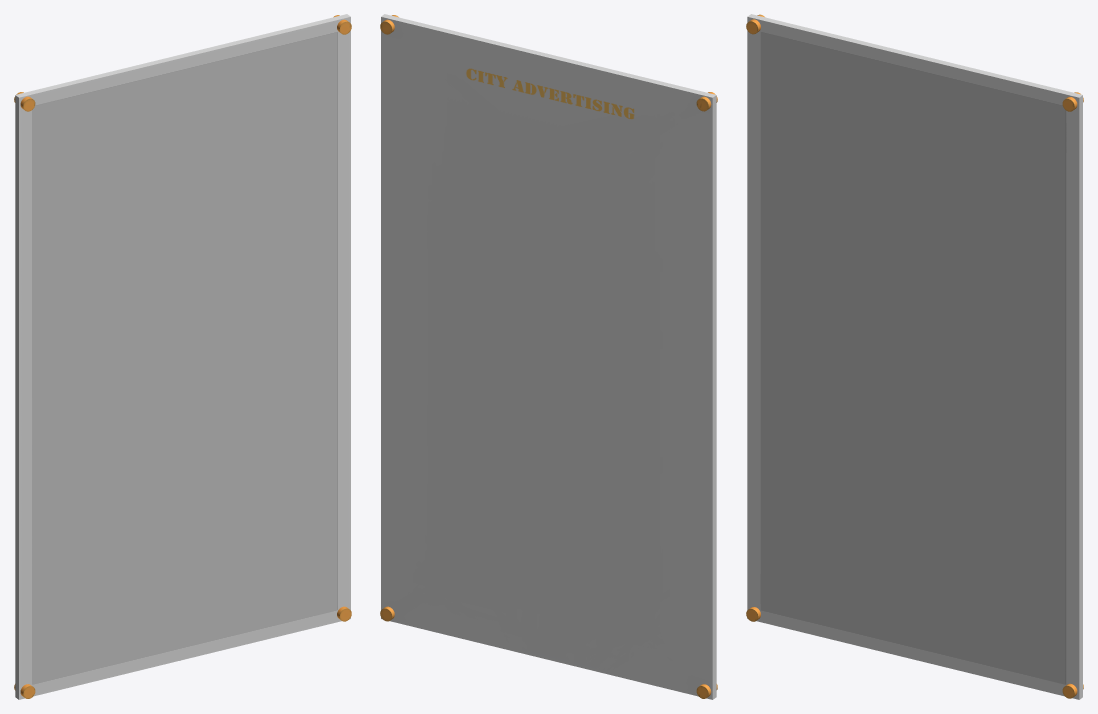
File: SM_PannelFrame.fbx
The picture shows the model from 3 angles, left to right: view 1: azimuth 30°, elevation 25°; view 2: azimuth 150°, elevation 25°; view 3: azimuth 330°, elevation 25°; orthographic projection.
Parts seen in each view (by area): view 1: SM_PannelFrame_LOD0; view 2: SM_PannelFrame_LOD0; view 3: SM_PannelFrame_LOD0.
Part boxes in pixels (x1,y1,x2,y2): SM_PannelFrame_LOD0: (14, 14, 351, 699); SM_PannelFrame_LOD0: (380, 14, 717, 699); SM_PannelFrame_LOD0: (746, 14, 1083, 699).
Size of the model in its own units: 101 by 4.86 by 176.
2 materials, 1 textured.
